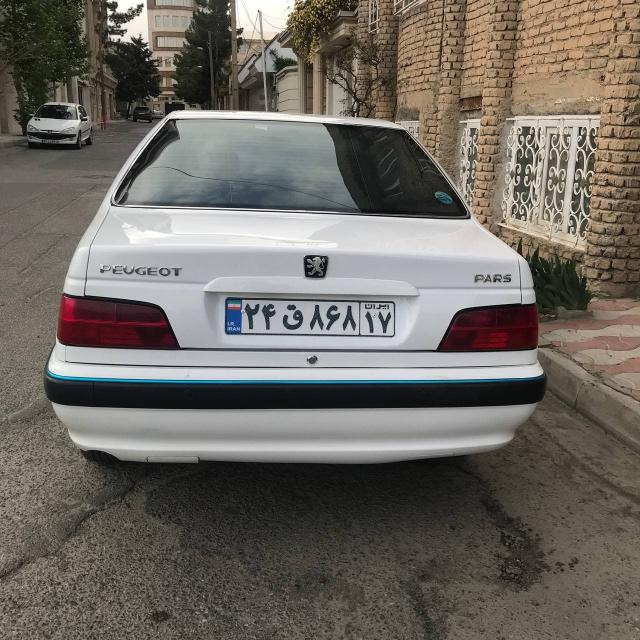Plates: (225, 298, 395, 338)
